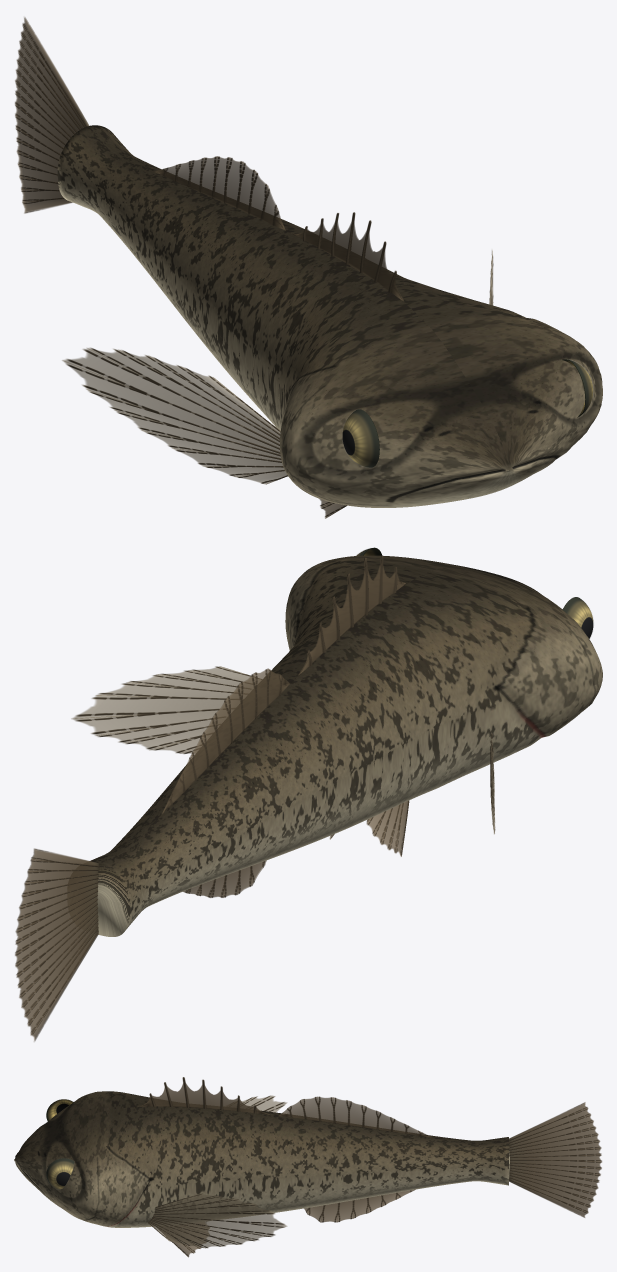
The model's file is glowacz_pregoplety.glb.
3 renders of one model, top to bottom at view 1: azimuth 30°, elevation 25°; view 2: azimuth 150°, elevation 25°; view 3: azimuth 270°, elevation 25°, orthographic. The views are drawn at different scales.
Visible parts, largest first — view 1: Body, FinPectoral, FinCaudal, FinDorsal2, FinDorsal1, EyeLeft; view 2: Body, FinCaudal, FinPectoral, FinDorsal2, FinDorsal1, FinPelvic, FinAnal, EyeLeft; view 3: Body, FinCaudal, FinPectoral, FinDorsal2, FinDorsal1, FinAnal, FinPelvic, EyeRight, EyeLeft.
Part boxes in pixels (x1,y1,x2,y2): Body: (57,125,602,507); FinPectoral: (62,250,493,484); FinCaudal: (15,17,89,213); FinDorsal2: (153,156,285,230); FinDorsal1: (290,212,404,302); EyeLeft: (342,409,379,467); Body: (90,555,602,936); FinCaudal: (15,848,98,1041); FinPectoral: (71,666,495,834); FinDorsal2: (161,668,290,814); FinDorsal1: (295,555,408,678); FinPelvic: (329,800,409,856); FinAnal: (183,860,266,897); EyeLeft: (562,597,593,638); Body: (14,1091,509,1227); FinCaudal: (509,1102,601,1217); FinPectoral: (148,1095,287,1248); FinDorsal2: (278,1096,432,1137); FinDorsal1: (137,1077,271,1114); FinAnal: (304,1189,415,1222); FinPelvic: (158,1222,209,1257); EyeRight: (46,1158,74,1189); EyeLeft: (46,1099,73,1121).
Size of the model in its own units: 0.4986 by 0.3294 by 1.
9 materials, 8 textured.
